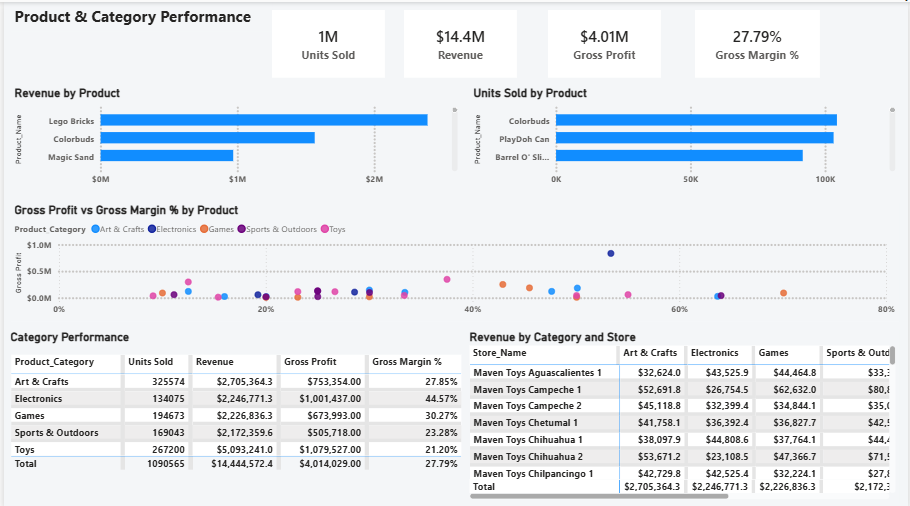

The dashboard page shown, as its layout file describes it:
{"tool":"powerbi","page":{"name":"Product & Category Performance","canvas":[1280,720],"ordinal":1},"visuals":[{"type":"textbox","box":[10.1,0,370.1,41.8],"z":0},{"type":"cardVisual","fields":{"Data":["calendar.Units Sold"]},"box":[380.2,11.5,160,96],"z":1000},{"type":"cardVisual","fields":{"Data":["calendar.Revenue"]},"box":[567.4,11.5,160,96],"z":2000},{"type":"cardVisual","fields":{"Data":["calendar.Gross Profit"]},"box":[770.4,11.5,160,96],"z":3000},{"type":"cardVisual","fields":{"Data":["calendar.Gross Margin %"]},"box":[979.2,11.5,177.1,96.5],"z":4000},{"type":"clusteredBarChart","title":"Revenue by Product","fields":{"Category":["products.Product_Name"],"Y":["calendar.Revenue"]},"box":[10.1,119.5,637.9,149.8],"z":5000},{"type":"clusteredBarChart","title":"Units Sold by Product","fields":{"Category":["products.Product_Name"],"Y":["calendar.Units Sold"]},"box":[661,119.5,607.7,149.8],"z":6000},{"type":"scatterChart","title":"Gross Profit vs Gross Margin % by Product","fields":{"X":["calendar.Gross Margin %"],"Y":["calendar.Gross Profit"],"Category":["products.Product_Name"],"Series":["products.Product_Category"]},"box":[10.1,285.1,1258.6,168.5],"z":7000},{"type":"tableEx","title":"Category Performance","fields":{"Values":["products.Product_Category","calendar.Units Sold","calendar.Revenue","calendar.Gross Profit","calendar.Gross Margin %"]},"box":[4.3,465.1,650.9,244.8],"z":8000},{"type":"pivotTable","title":"Revenue by Category and Store","fields":{"Rows":["stores.Store_Name"],"Columns":["products.Product_Category"],"Values":["calendar.Revenue"]},"box":[655,465,614,245],"z":9000}]}

Visuals, with their boxes in screenshot pixels (x1, y1, x2, y2), scaled from the page's 1280x720 canvas onto the 910x506 screenshot:
textbox: (left=7, top=0, right=270, bottom=29)
cardVisual - calendar.Units Sold: (left=270, top=8, right=384, bottom=76)
cardVisual - calendar.Revenue: (left=403, top=8, right=517, bottom=76)
cardVisual - calendar.Gross Profit: (left=548, top=8, right=661, bottom=76)
cardVisual - calendar.Gross Margin %: (left=696, top=8, right=822, bottom=76)
"Revenue by Product" clusteredBarChart: (left=7, top=84, right=461, bottom=189)
"Units Sold by Product" clusteredBarChart: (left=470, top=84, right=902, bottom=189)
"Gross Profit vs Gross Margin % by Product" scatterChart: (left=7, top=200, right=902, bottom=319)
"Category Performance" tableEx: (left=3, top=327, right=466, bottom=499)
"Revenue by Category and Store" pivotTable: (left=466, top=327, right=902, bottom=499)
